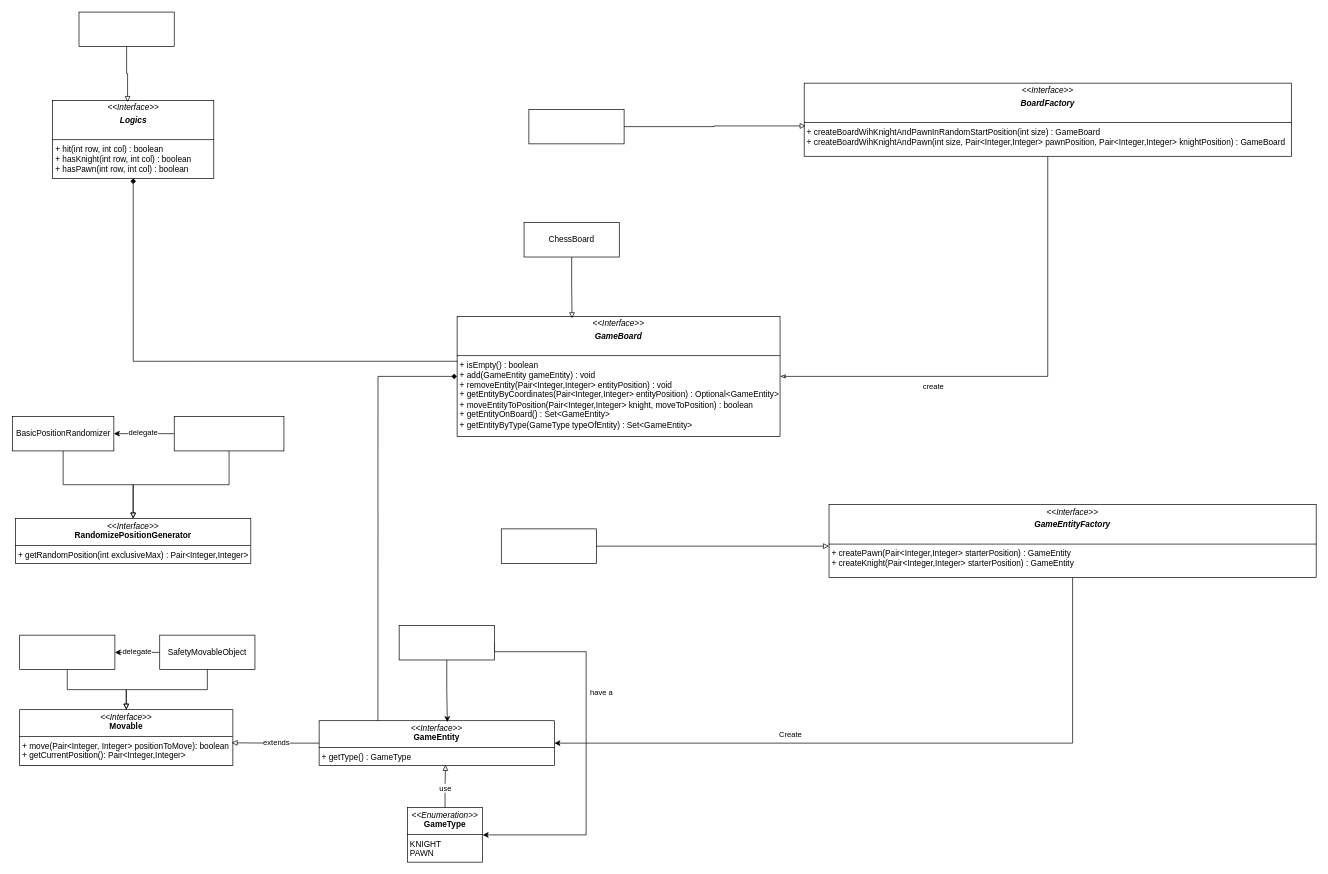
Some shapes in this 1328 by 874 pixel diagram are drawn without their labels. Here are the shapes that lost their labels. From the top down, the centre of each, then its label:
At [126,29]: "LogicsImpl".
At [576,126]: "ChessBoardFactory".
At [229,433]: "SafetyPositionRandomizer".
At [549,545]: "ChessEntityFactory".
At [67,652]: "BasicMovableObject".
At [446,642]: "ChessEntity".
